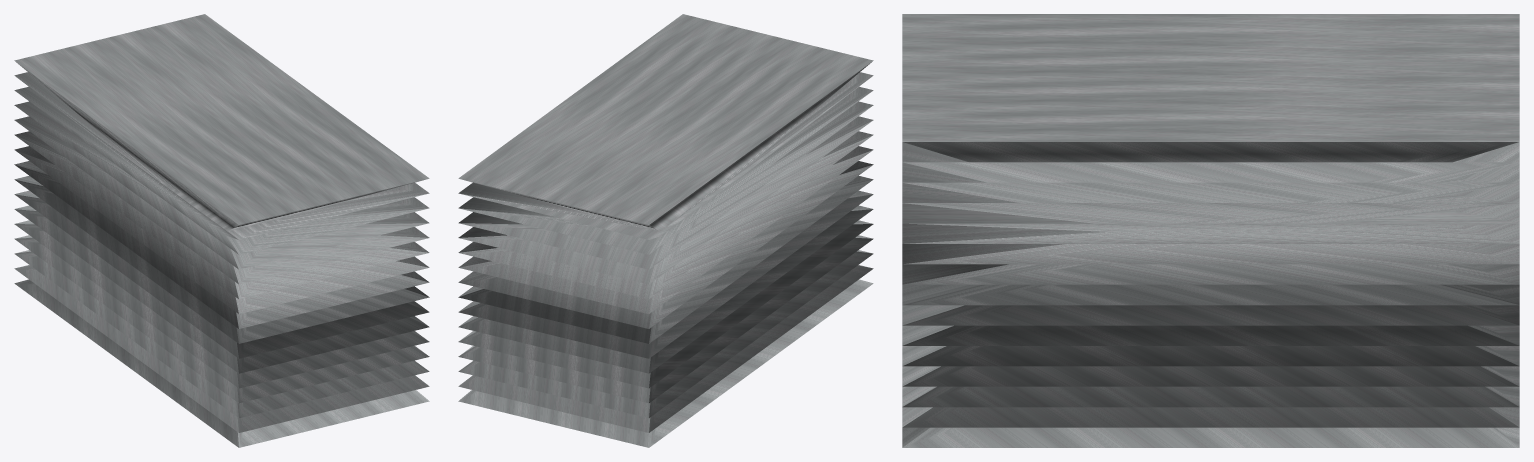
Rendered from skrzynka2.FBX.
3 renders of one model, left to right at view 1: azimuth 30°, elevation 25°; view 2: azimuth 150°, elevation 25°; view 3: azimuth 270°, elevation 25°, orthographic. The views are drawn at different scales.
Parts seen in each view (by area): view 1: Box830; view 2: Box830; view 3: Box830.
Part boxes in pixels (x1,y1,x2,y2): Box830: (14, 14, 429, 447); Box830: (458, 14, 873, 447); Box830: (902, 14, 1519, 447).
Bounding box in the file's own units: 1.9 × 2.12 × 3.88.
Materials: 1 (1 with a texture image).
